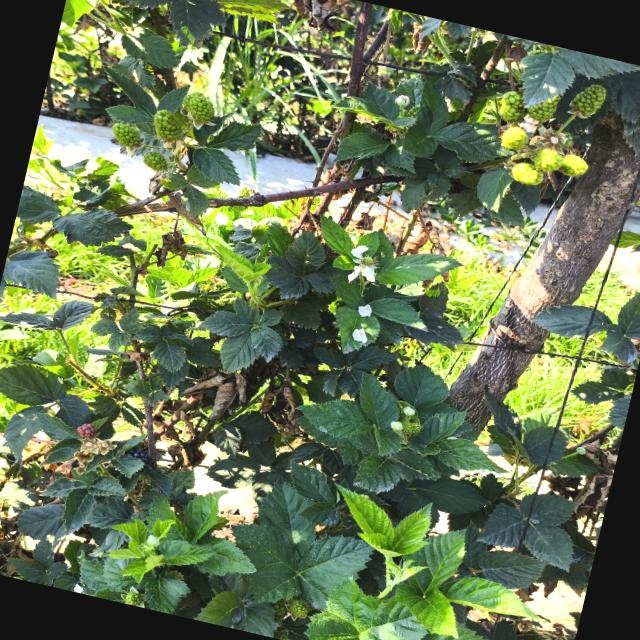verde: (570, 84, 606, 117), (183, 92, 214, 123), (153, 109, 182, 140), (528, 95, 560, 122), (498, 91, 526, 121), (510, 162, 543, 184), (112, 122, 141, 147), (533, 148, 563, 171), (500, 126, 528, 149), (559, 155, 588, 175), (143, 152, 167, 171)
